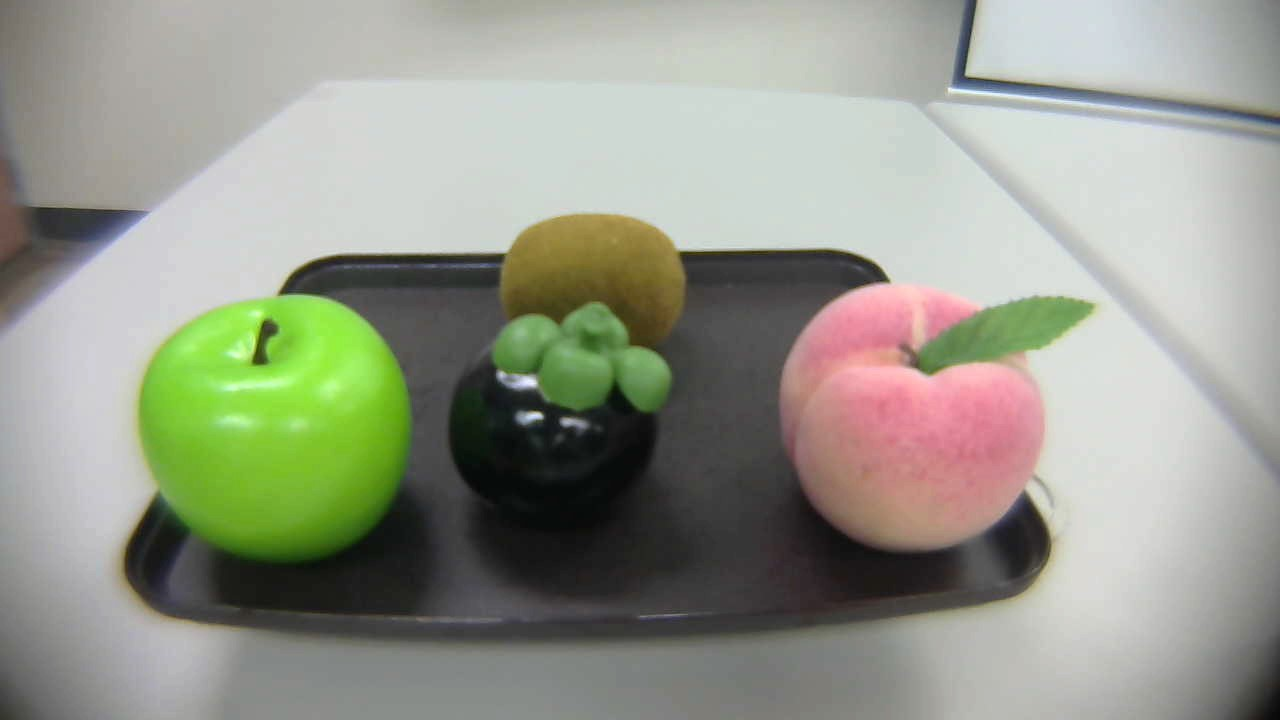green apple: (133, 289, 418, 574)
kiwi fruit: (468, 214, 702, 345)
mangosteen: (445, 301, 668, 512)
peach: (780, 278, 1102, 551)
